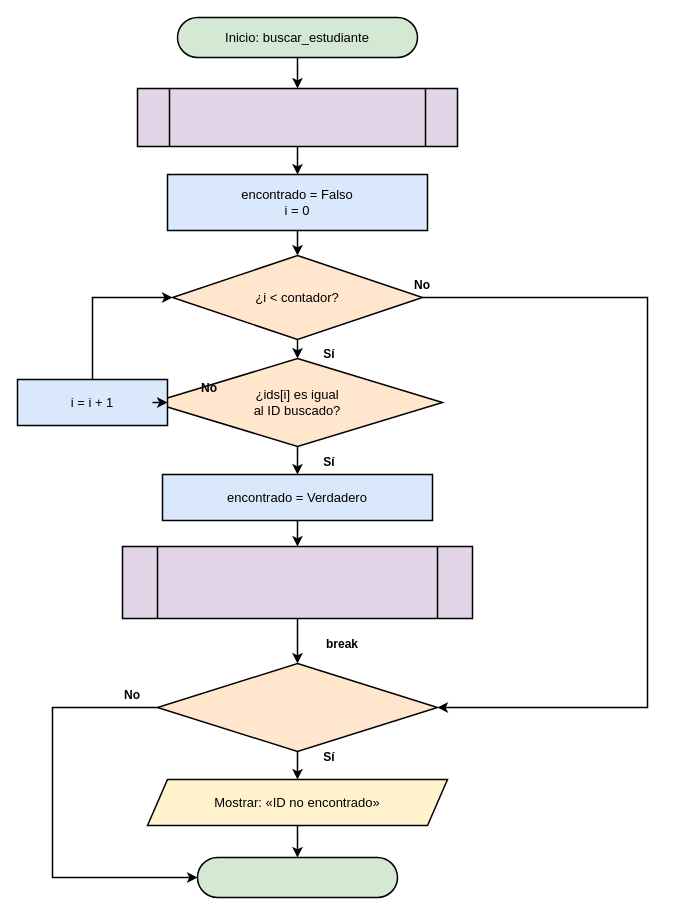
Image size: 674x916. Some labels were removed from this diagram. The shapes that lost their labels are listed below. From the top down, each one's centre as x and y in pixels, then its label:
At (x=297, y=117): "Leer el ID a buscar leer_entero(mensaje)".
At (x=297, y=582): "mostrar_estudiante(ids[i], nombres[i], edades[i], carreras[i], notas[i])".
At (x=297, y=707): "¿encontrado = Falso?".
At (x=297, y=877): "Fin".
